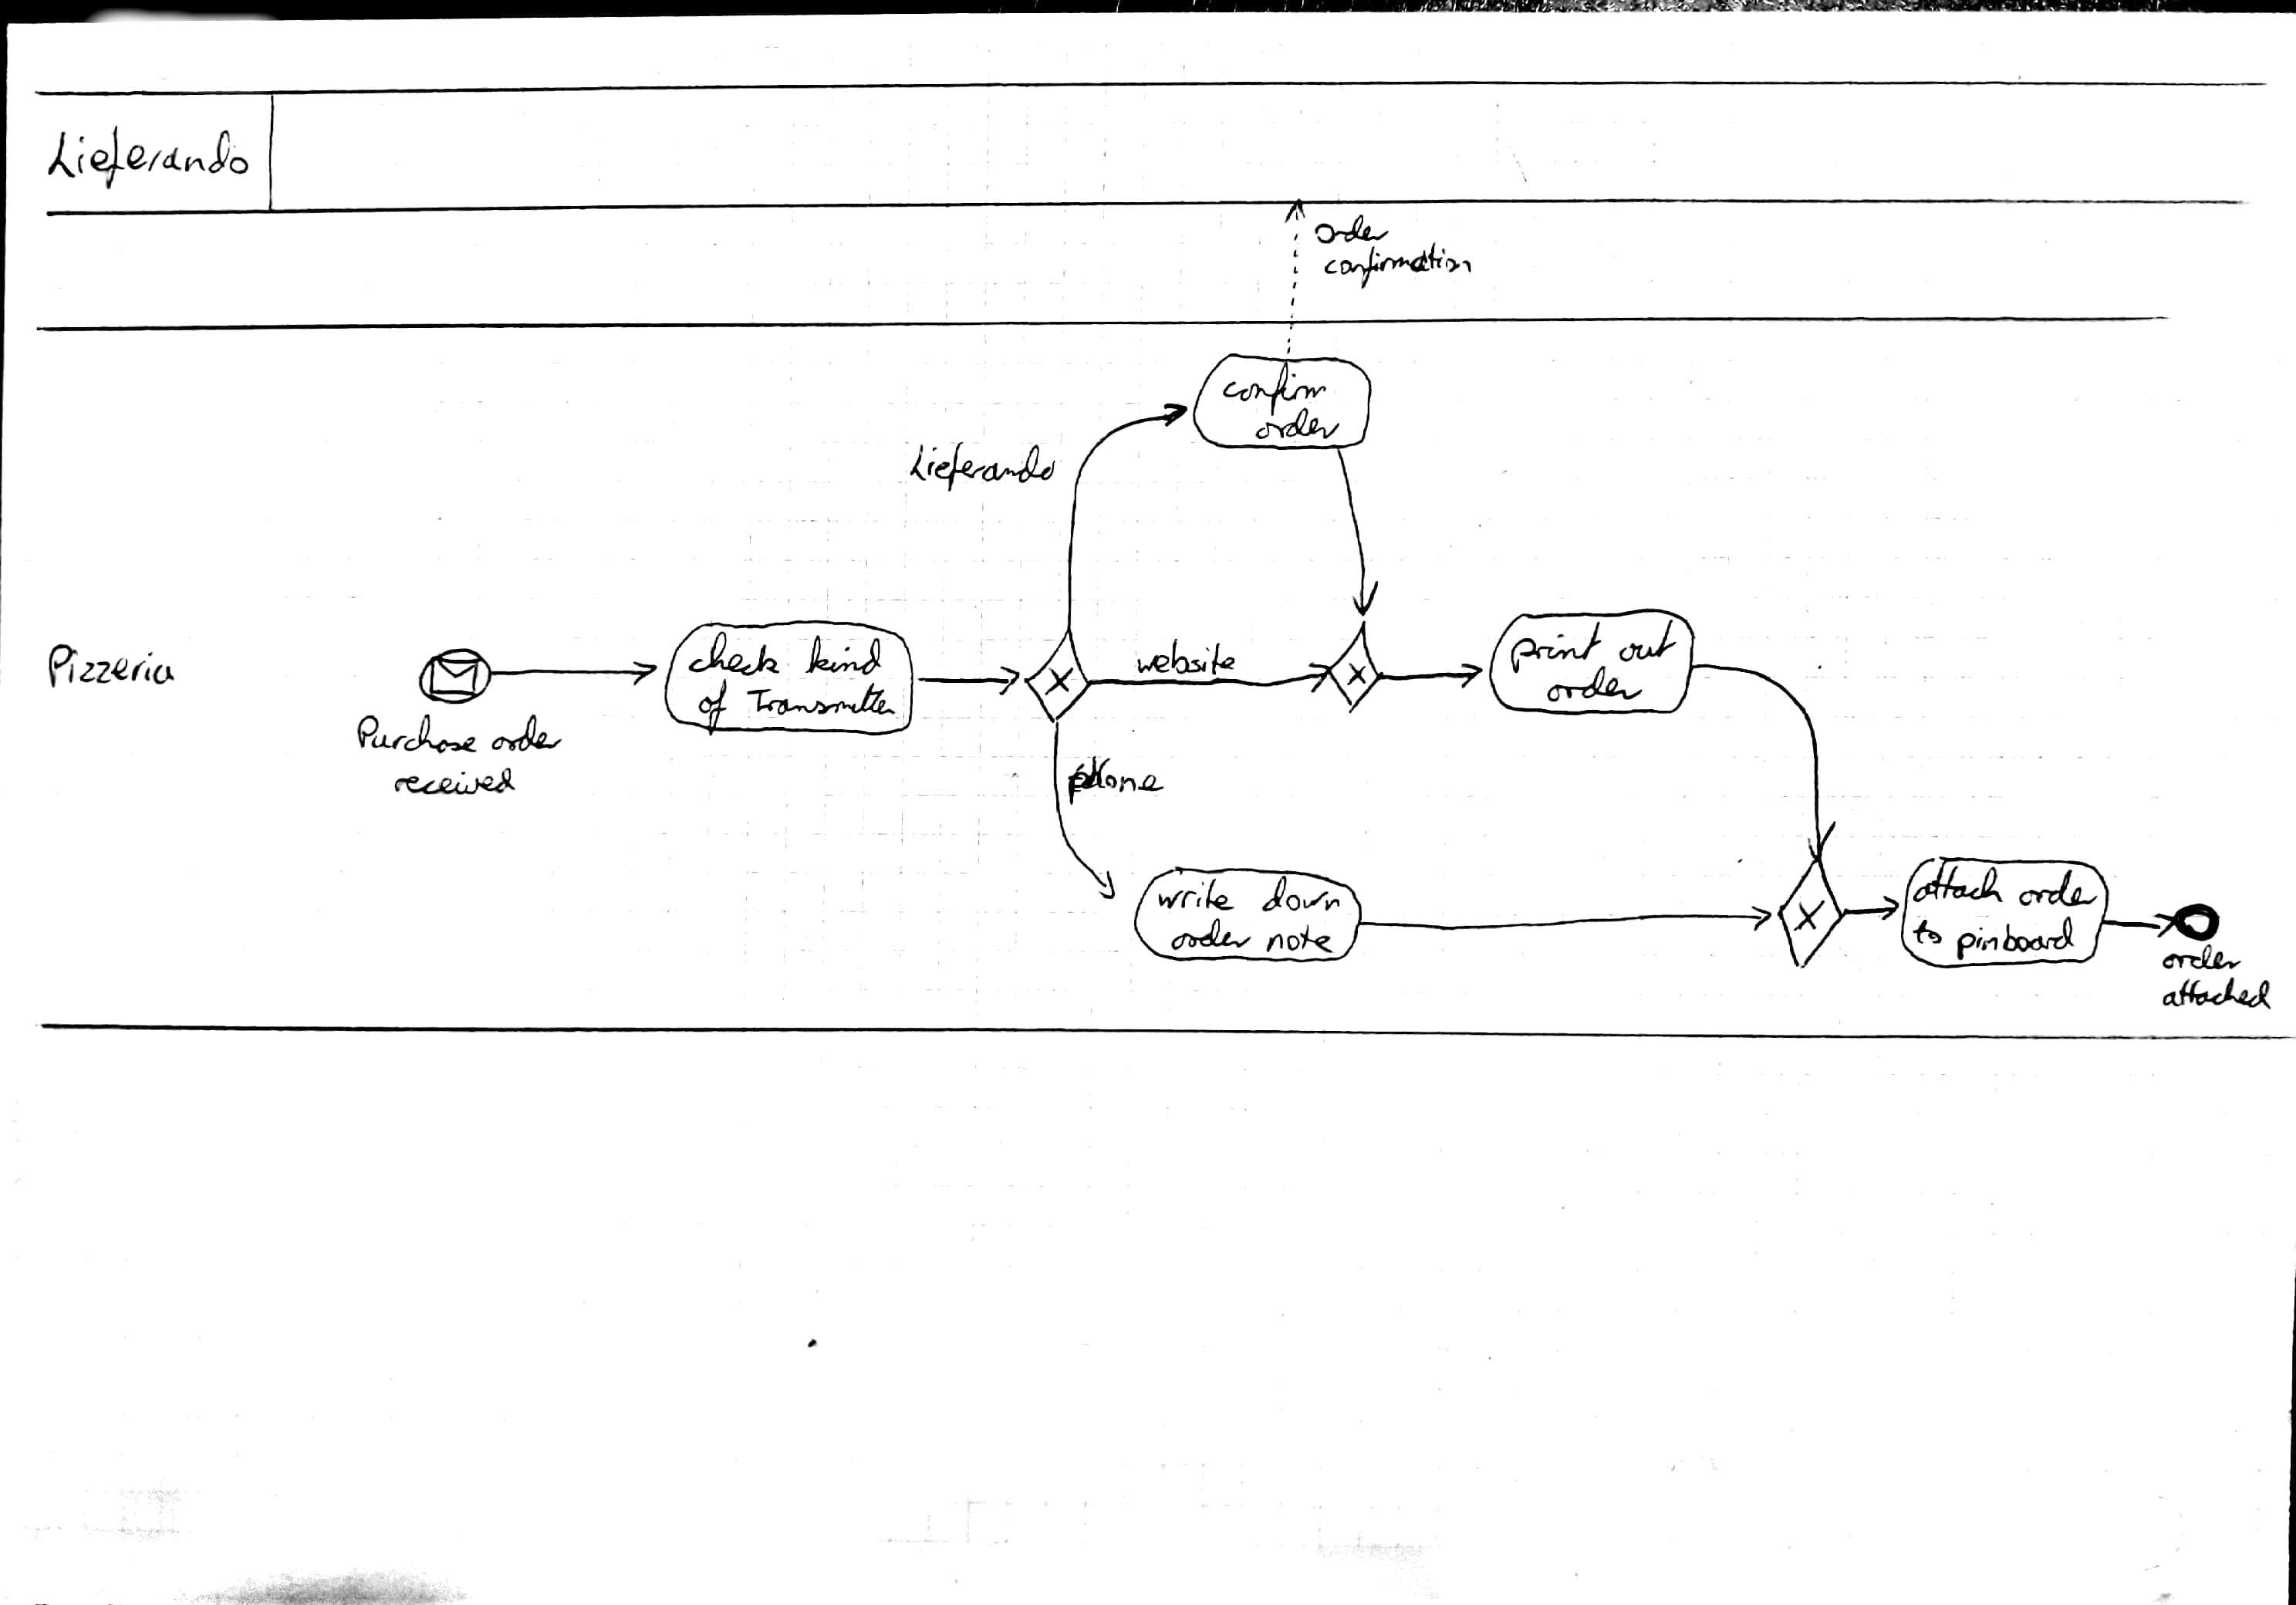Lieferando: (47, 127, 253, 190), (907, 441, 1057, 490)
Order: (1314, 216, 1392, 246)
Pizzeria: (42, 642, 180, 693)
Purchase: (351, 712, 480, 757)
Transmitten: (748, 675, 899, 722)
attach: (1912, 865, 2006, 911)
attached: (2158, 977, 2277, 1017)
check: (686, 635, 785, 682)
confirm: (1221, 363, 1333, 417)
confirmation: (1321, 242, 1476, 288)
down: (1261, 878, 1347, 916)
kind: (799, 635, 890, 682)
note: (1263, 923, 1338, 958)
of: (694, 680, 733, 734)
order: (2012, 865, 2097, 914), (1544, 670, 1645, 708), (487, 715, 564, 757), (1254, 406, 1343, 441), (2160, 946, 2244, 977), (1171, 921, 1254, 949)
out: (1610, 621, 1682, 670)
phone: (1068, 755, 1164, 802)
pinboard: (1956, 918, 2078, 958)
print: (1507, 621, 1602, 675)
received: (393, 766, 520, 802)
to: (1902, 916, 1947, 954)
website: (1136, 640, 1237, 682)
write: (1153, 879, 1237, 918)
